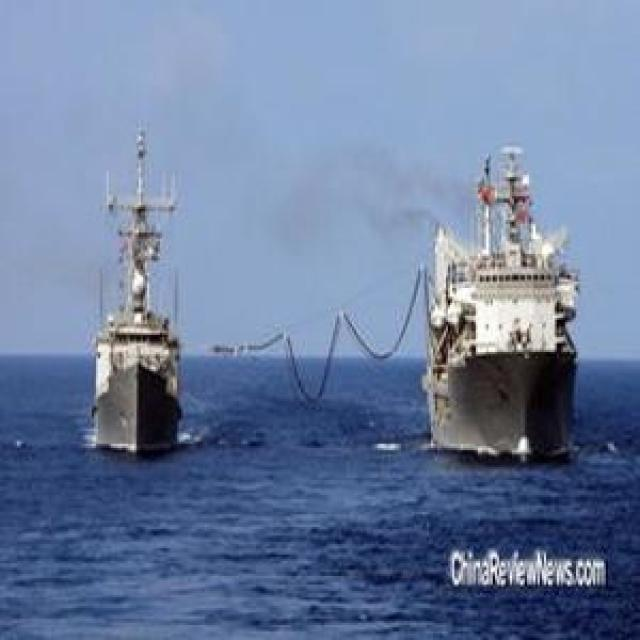navalvessels: (396, 132, 569, 455), (74, 140, 186, 454)
